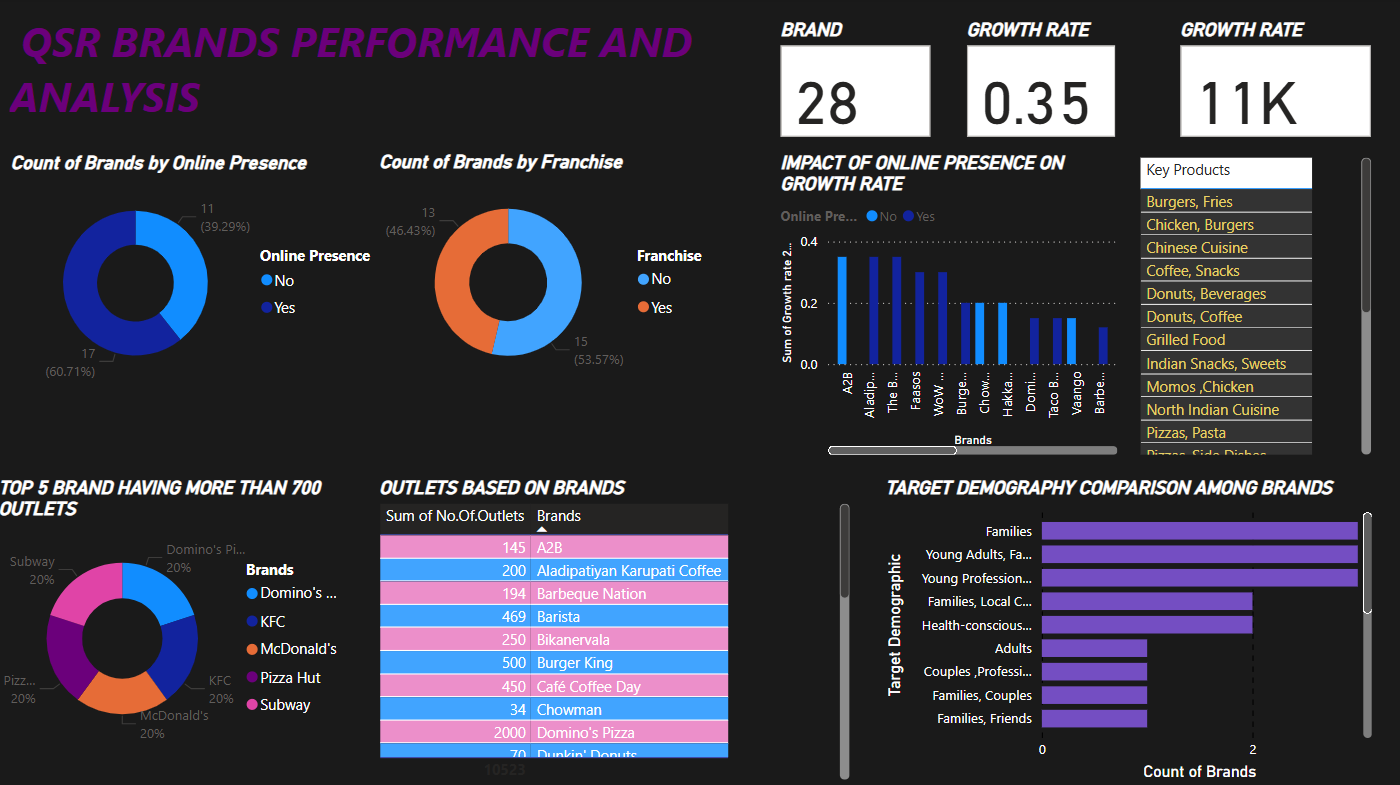

The page's visual inventory and layout, read from the dashboard file:
{"tool":"powerbi","page":{"name":"Page 1","canvas":[1280,720],"ordinal":0},"visuals":[{"type":"clusteredColumnChart","title":"IMPACT OF ONLINE PRESENCE ON GROWTH RATE ","fields":{"Category":["Table1.Brands"],"Y":["Sum(Table1.Growth rate  23-24)"],"Series":["Table1.Online Presence"]},"box":[710,141,316.1,280.1],"z":0},{"type":"clusteredBarChart","title":"TARGET DEMOGRAPHY COMPARISON AMONG BRANDS","fields":{"Category":["Table1.Target Demographic"],"Y":["CountNonNull(Table1.Brands)"]},"box":[805.3,435.7,452.3,280.1],"z":1000},{"type":"cardVisual","title":"GROWTH RATE ","fields":{"Data":["Max(Table1.Growth rate  23-24)"]},"box":[880.2,19.5,145.9,112.8],"z":2000},{"type":"tableEx","title":"OUTLETS BASED ON BRANDS","fields":{"Values":["Sum(Table1.No.Of.Outlets)","Table1.Brands"]},"box":[346.3,435.7,437.7,280.1],"z":3000},{"type":"cardVisual","title":"BRAND","fields":{"Data":["CountNonNull(Table1.Brands)"]},"box":[710,19.5,146.9,112.8],"z":4000},{"type":"tableEx","fields":{"Values":["Table1.Key Products"]},"box":[1036.8,141,220.8,280.1],"z":5000},{"type":"textbox","title":"FAST FOOD BRANDS PERFORMANCE AND INSIGHTS ","box":[10.2,8.7,643.4,115],"z":6000},{"type":"pieChart","title":"TOP 5 BRAND HAVING MORE THAN 700 OUTLETS ","fields":{"Y":["Count(Table1.No.Of.Outlets)"],"Category":["Table1.Brands"]},"box":[0,435.7,331.7,254.8],"z":7000},{"type":"donutChart","fields":{"Y":["CountNonNull(Table1.Brands)"],"Series":["Table1.Franchise"]},"box":[346.3,140.1,321.9,219.8],"z":8000},{"type":"donutChart","fields":{"Y":["CountNonNull(Table1.Brands)"],"Series":["Table1.Online Presence"]},"box":[11.7,141,342.4,218.8],"z":9000},{"type":"cardVisual","title":"GROWTH RATE ","fields":{"Data":["Sum(Table1.No.Of.Outlets)"]},"box":[1073.8,19.5,183.8,112.8],"z":10000}]}

Visuals, with their boxes in screenshot pixels (x1, y1, x2, y2), scaled from the page's 1280x720 canvas onto the 1400x785 screenshot:
"IMPACT OF ONLINE PRESENCE ON GROWTH RATE " clusteredColumnChart: left=777, top=154, right=1122, bottom=459
"TARGET DEMOGRAPHY COMPARISON AMONG BRANDS" clusteredBarChart: left=881, top=475, right=1376, bottom=780
"GROWTH RATE " cardVisual: left=963, top=21, right=1122, bottom=144
"OUTLETS BASED ON BRANDS" tableEx: left=379, top=475, right=858, bottom=780
"BRAND" cardVisual: left=777, top=21, right=937, bottom=144
tableEx - Table1.Key Products: left=1134, top=154, right=1376, bottom=459
"FAST FOOD BRANDS PERFORMANCE AND INSIGHTS " textbox: left=11, top=9, right=715, bottom=135
"TOP 5 BRAND HAVING MORE THAN 700 OUTLETS " pieChart: left=0, top=475, right=363, bottom=753
donutChart - CountNonNull(Table1.Brands) x Table1.Franchise: left=379, top=153, right=731, bottom=392
donutChart - CountNonNull(Table1.Brands) x Table1.Online Presence: left=13, top=154, right=387, bottom=392
"GROWTH RATE " cardVisual: left=1174, top=21, right=1376, bottom=144
